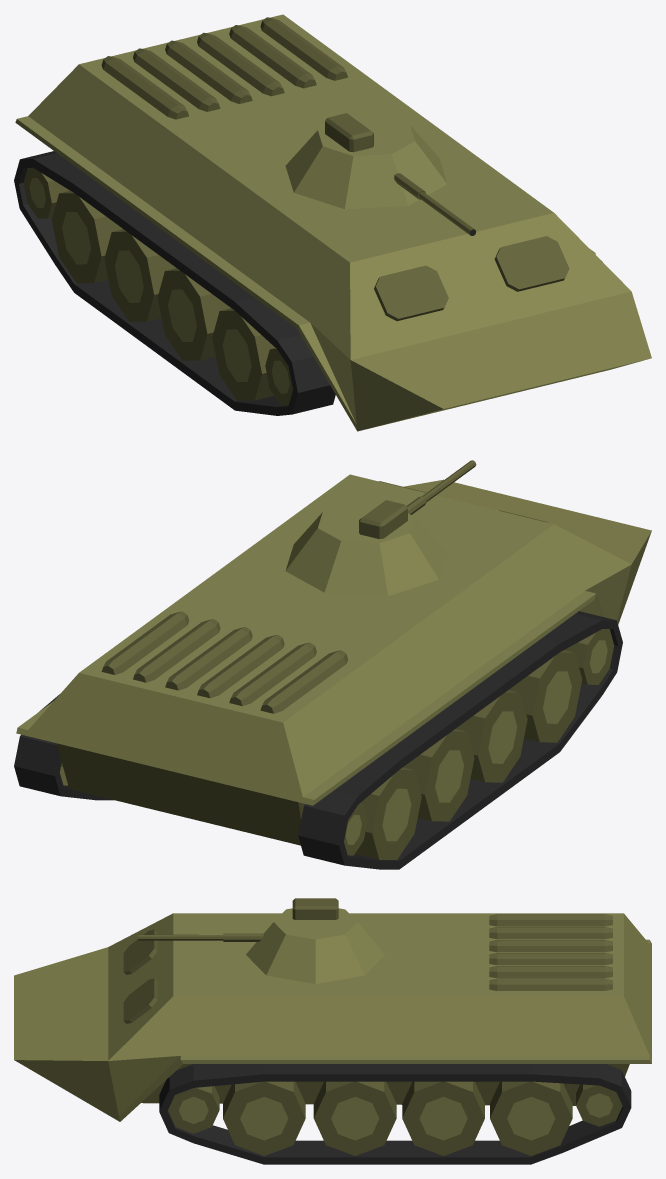
Rendered from IFV_01.fbx.
The picture shows the model from 3 angles, top to bottom: view 1: azimuth 30°, elevation 25°; view 2: azimuth 150°, elevation 25°; view 3: azimuth 270°, elevation 25°; orthographic projection. The views are drawn at different scales.
Parts seen in each view (by area): view 1: IFV_01, IFV_01_Turret, IFV_01_Barrel; view 2: IFV_01, IFV_01_Turret, IFV_01_Barrel; view 3: IFV_01, IFV_01_Turret, IFV_01_Barrel.
Part boxes in pixels (left/top/right/bottom): IFV_01: left=14, top=14, right=651, bottom=431; IFV_01_Turret: left=285, top=113, right=447, bottom=209; IFV_01_Barrel: left=394, top=173, right=475, bottom=235; IFV_01: left=14, top=474, right=651, bottom=869; IFV_01_Turret: left=285, top=500, right=447, bottom=596; IFV_01_Barrel: left=407, top=460, right=476, bottom=514; IFV_01: left=14, top=913, right=651, bottom=1164; IFV_01_Turret: left=246, top=898, right=384, bottom=983; IFV_01_Barrel: left=138, top=933, right=263, bottom=941.
Bounding box in the file's own units: 5.34 × 3.58 × 10.91.
